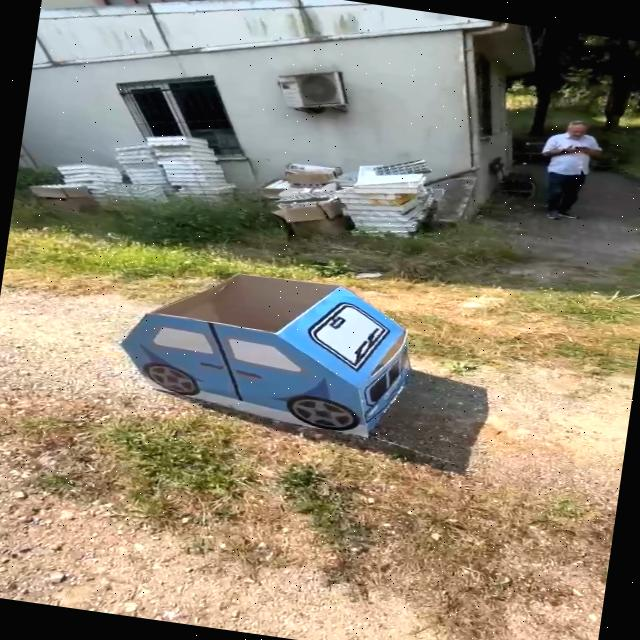blue_car: (75, 244, 446, 479)
